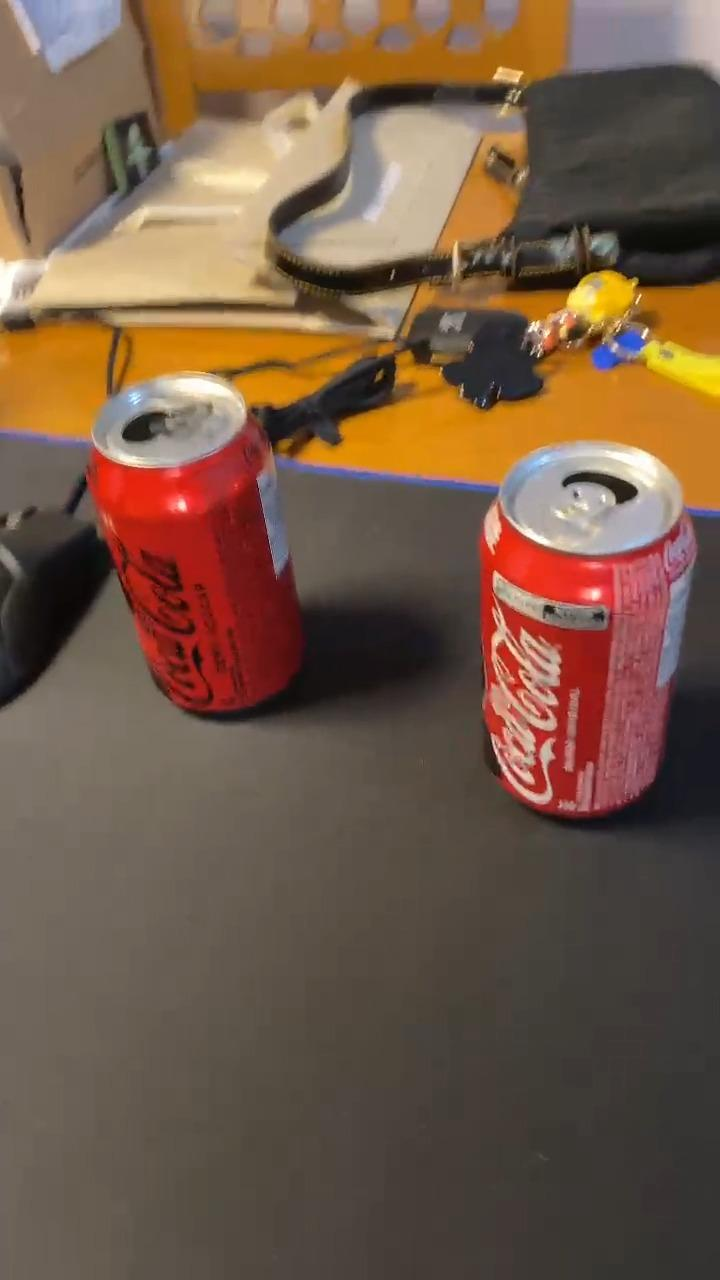coke: (479, 441, 696, 816), (83, 375, 305, 712)
